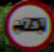Heavy Vehicles: (6, 2, 48, 40)
